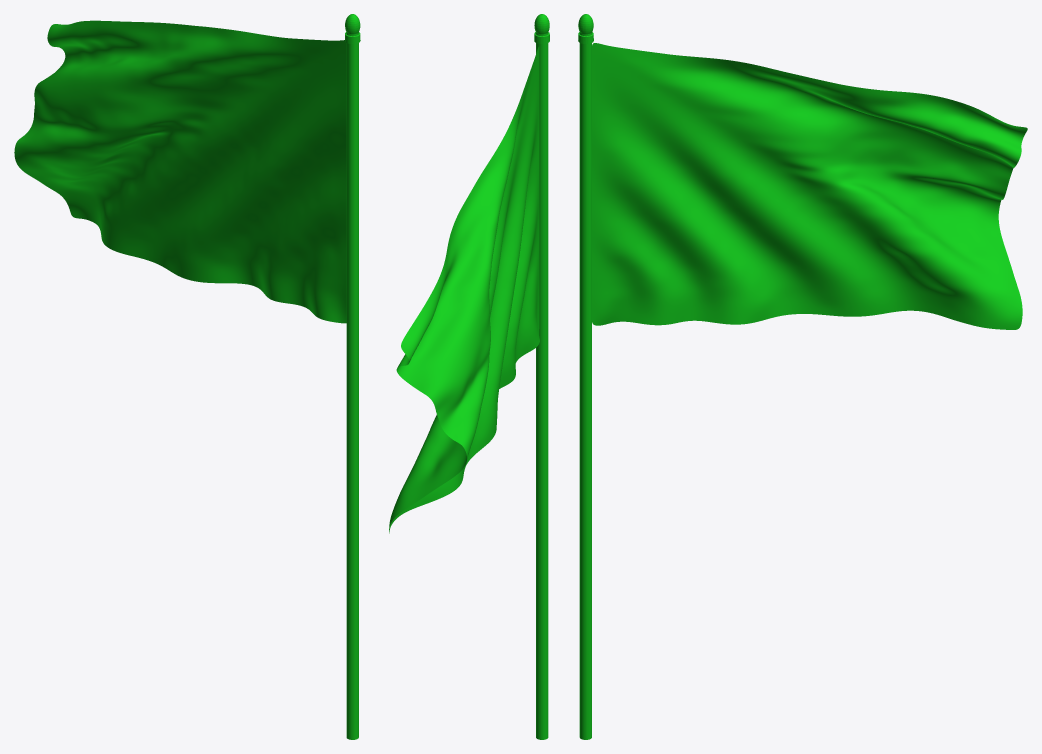
The model's file is green_flag.glb.
3 renders of one model, left to right at view 1: azimuth 30°, elevation 25°; view 2: azimuth 150°, elevation 25°; view 3: azimuth 270°, elevation 25°, orthographic.
Visible parts, largest first — view 1: steag, stick; view 2: steag, stick; view 3: steag, stick.
Boxes of the visible parts, left/top/right/bottom form: steag: left=14, top=20, right=346, bottom=323; stick: left=345, top=14, right=360, bottom=739; steag: left=389, top=47, right=539, bottom=533; stick: left=534, top=14, right=549, bottom=739; steag: left=592, top=43, right=1027, bottom=329; stick: left=578, top=14, right=593, bottom=739.
Size of the model in its own units: 0.4066 by 2.03 by 1.14.
